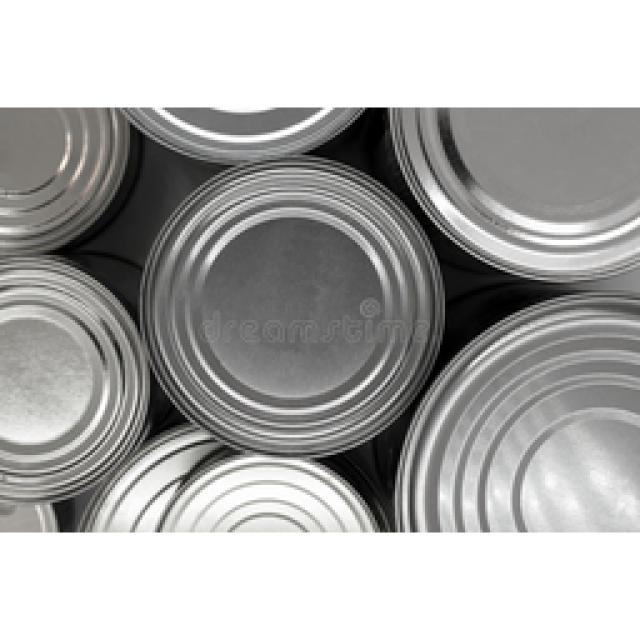alumunium: (0, 108, 638, 530), (390, 108, 640, 280)
